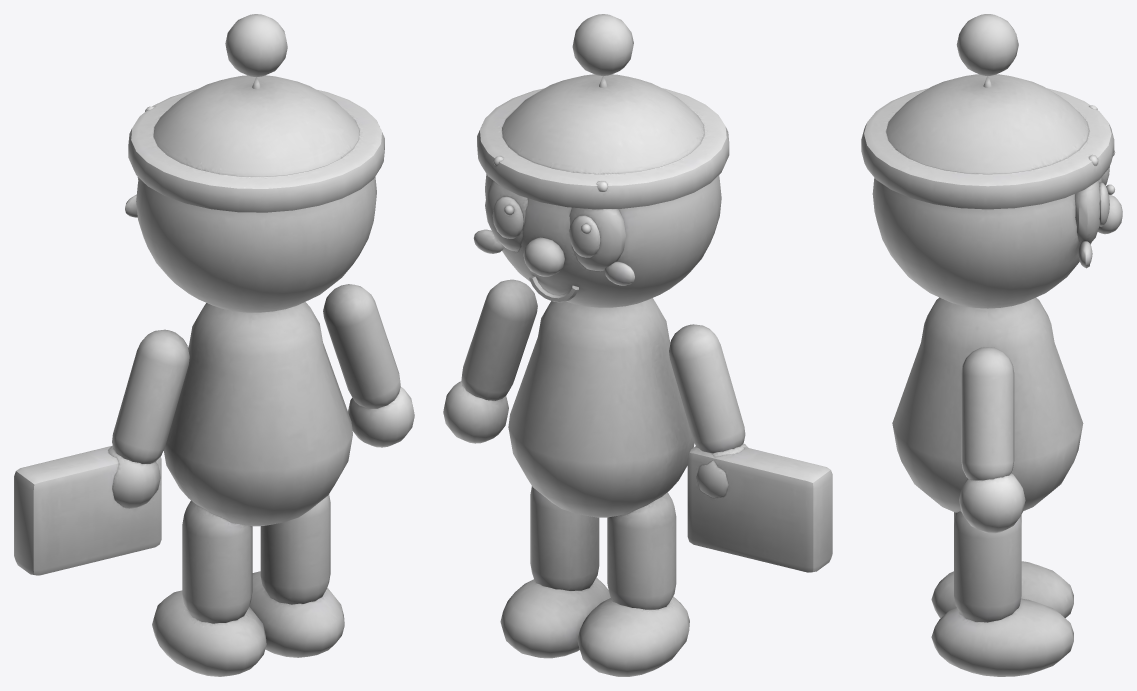
The model's file is Character_Passenger3.glb.
3 renders of one model, left to right at view 1: azimuth 30°, elevation 25°; view 2: azimuth 150°, elevation 25°; view 3: azimuth 270°, elevation 25°, orthographic.
Parts seen in each view (by area): view 1: Character_Passenger3; view 2: Character_Passenger3; view 3: Character_Passenger3.
Part boxes in pixels (x1,y1,x2,y2): Character_Passenger3: (14,14,414,676); Character_Passenger3: (443,14,832,676); Character_Passenger3: (861,14,1122,676).
Size of the model in its own units: 0.9881 by 1.58 by 0.5888.
Materials: 1 (1 with a texture image).
